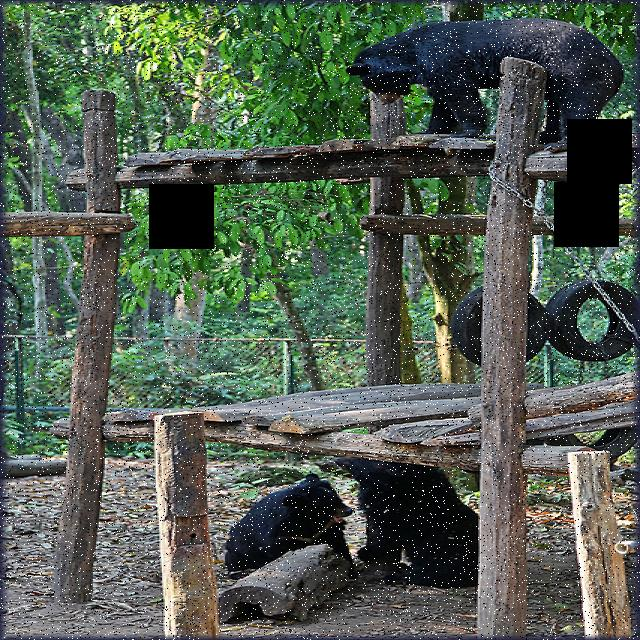Bear: (352, 17, 626, 149), (315, 444, 517, 589), (222, 471, 352, 569)
